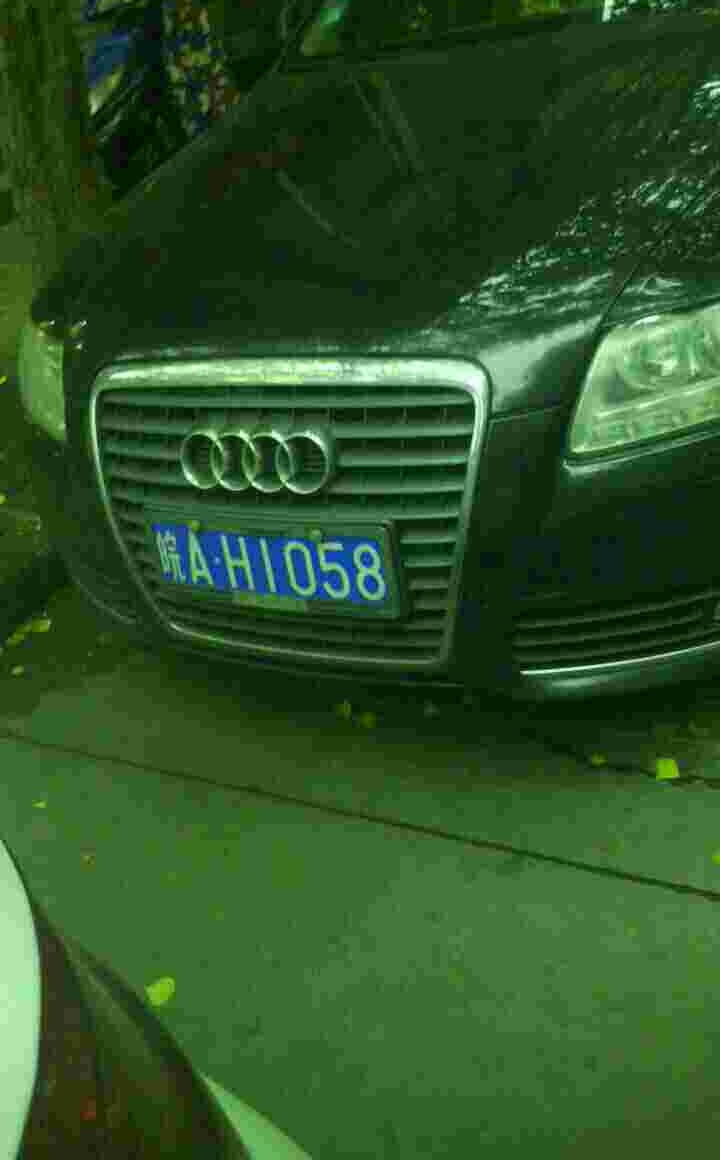license_plate: (148, 527, 386, 607)
